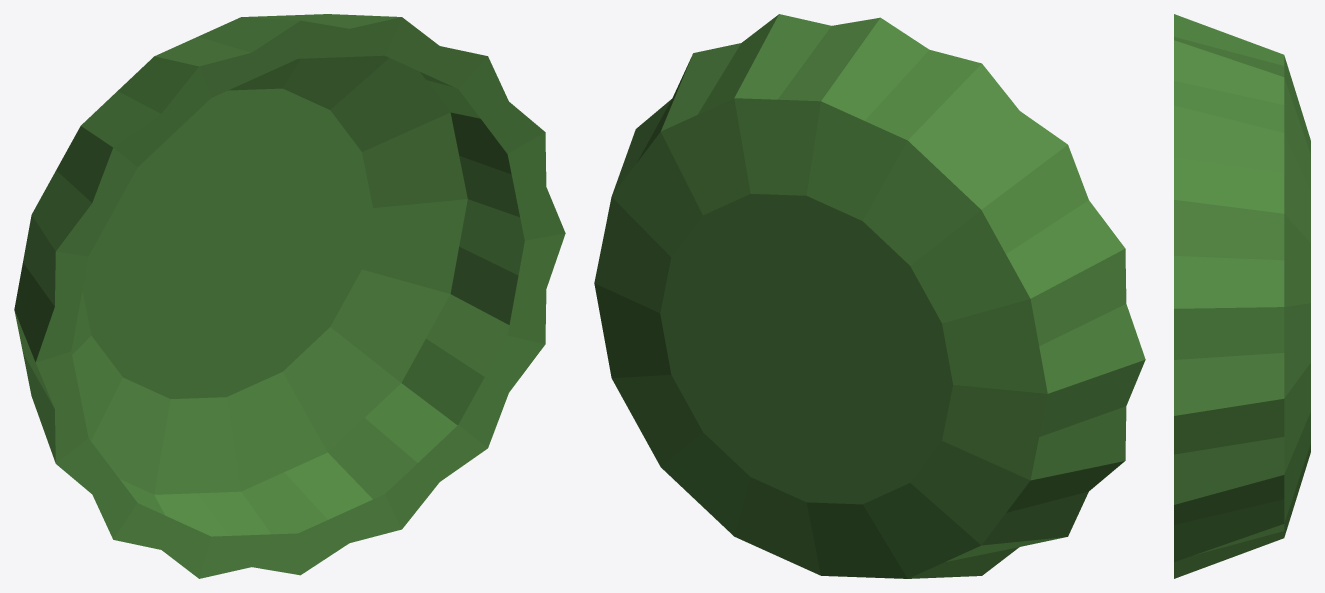
The model's file is cap.fbx.
3 renders of one model, left to right at view 1: azimuth 30°, elevation 25°; view 2: azimuth 150°, elevation 25°; view 3: azimuth 270°, elevation 25°, orthographic. The views are drawn at different scales.
Visible parts, largest first — view 1: BeerBottle.001; view 2: BeerBottle.001; view 3: BeerBottle.001.
Part boxes in pixels (<box>): BeerBottle.001: <box>14,14,565,578</box>; BeerBottle.001: <box>594,14,1145,578</box>; BeerBottle.001: <box>1174,14,1310,578</box>.
Bounding box in the file's own units: 96.9 × 96.9 × 23.42.
